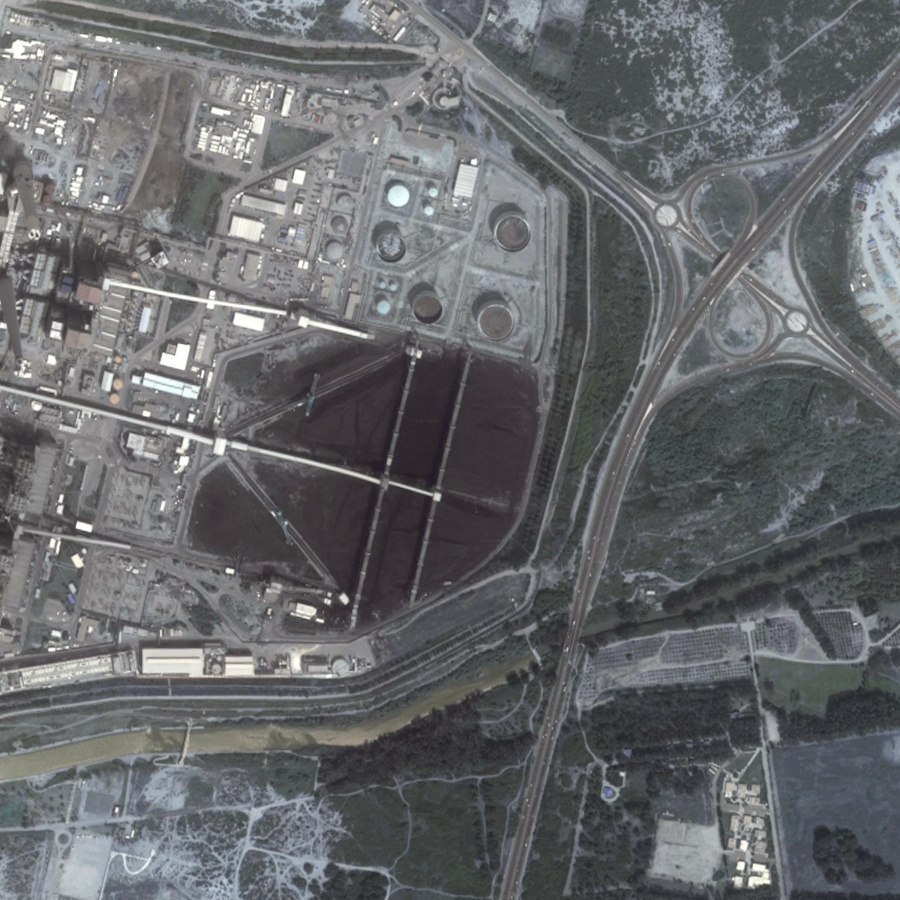PowerPlant: (183, 216, 544, 612)
